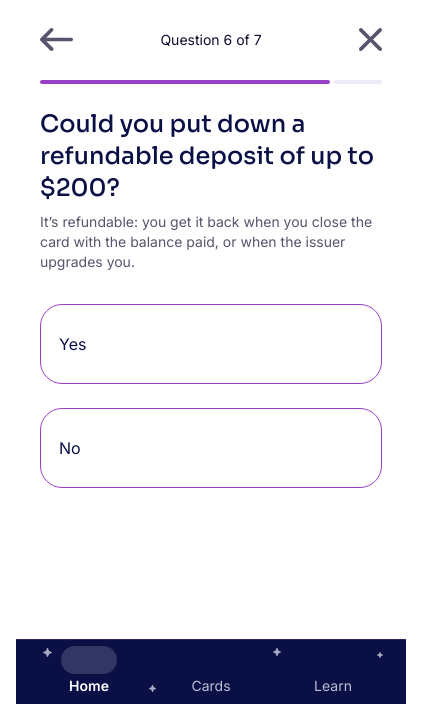
Test case: QuizFlow › goes back from the spending question to question 6 and counts the quiz completed once
Expected: the text "Question 6 of 7" is shown, [160,30,262,50]
Click the button "Yes".
click(73, 344)  # box [40,304,382,384]
Wait 300 ms
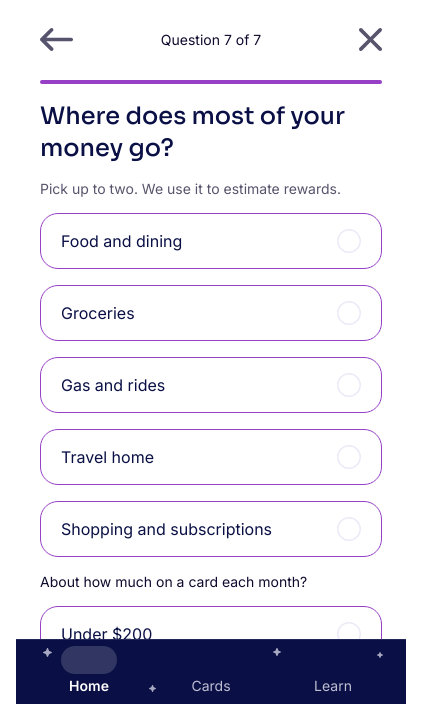
Expected: the text "Question 7 of 7" is shown, [161,30,261,50]
Click the button named "Back".
click(64, 40)  # box [40,16,88,64]
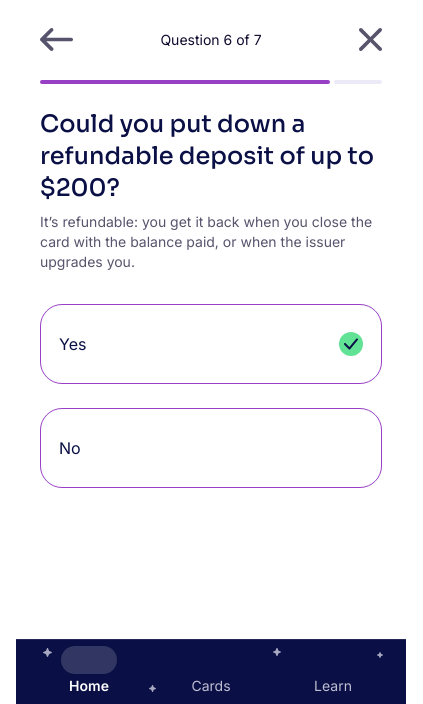
Expected: the text "Question 6 of 7" is shown, [160,30,262,50]
Click the button "No".
click(70, 448)  # box [40,408,382,488]
Wait 300 ms
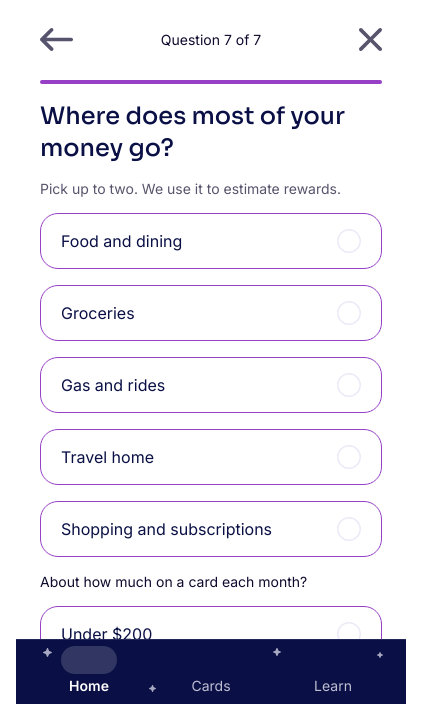
Expected: the text "Question 7 of 7" is shown, [161,30,261,50]
